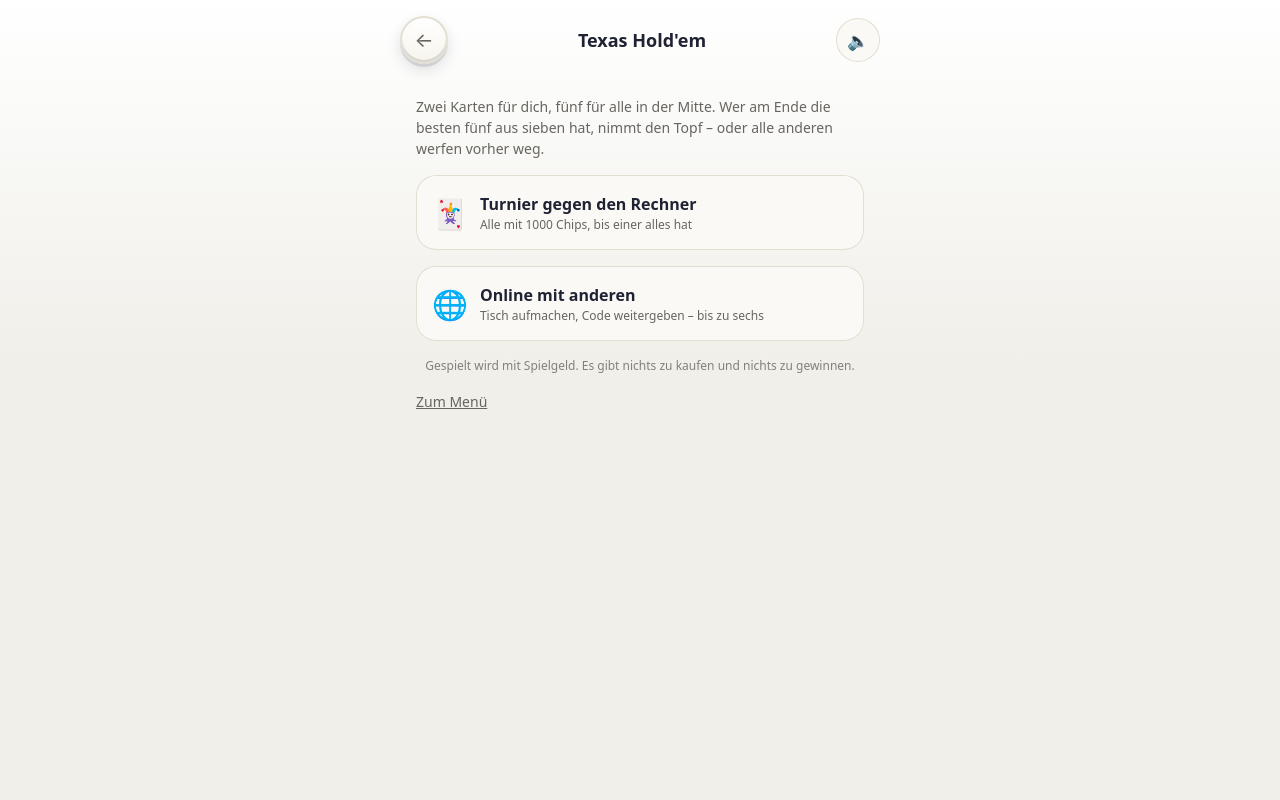
Scenario: Vom Menü an den Tisch › bietet nur an, was erlaubt ist
Click the button "Turnier gegen den Rechner" at coordinates (640, 213), box [416,175,864,250]
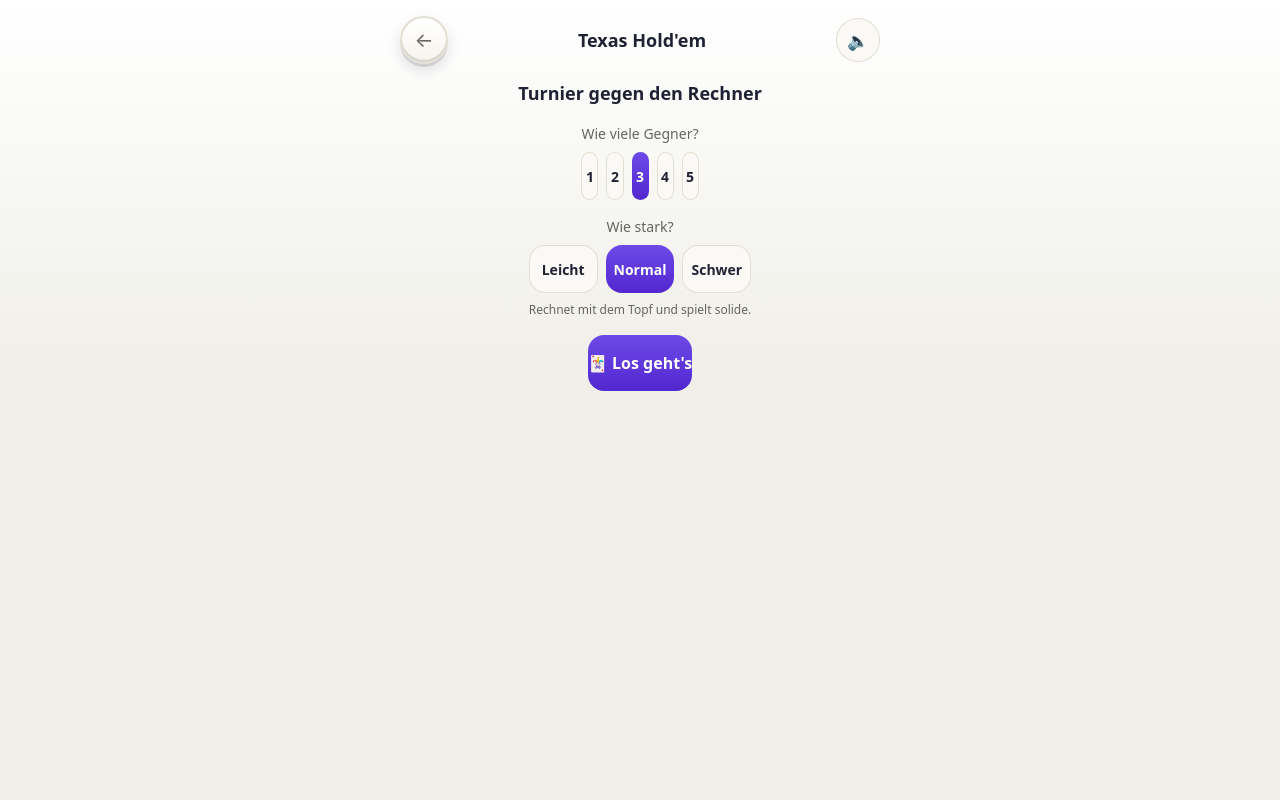
Click the button "1" at coordinates (590, 176), box [582,152,598,200]
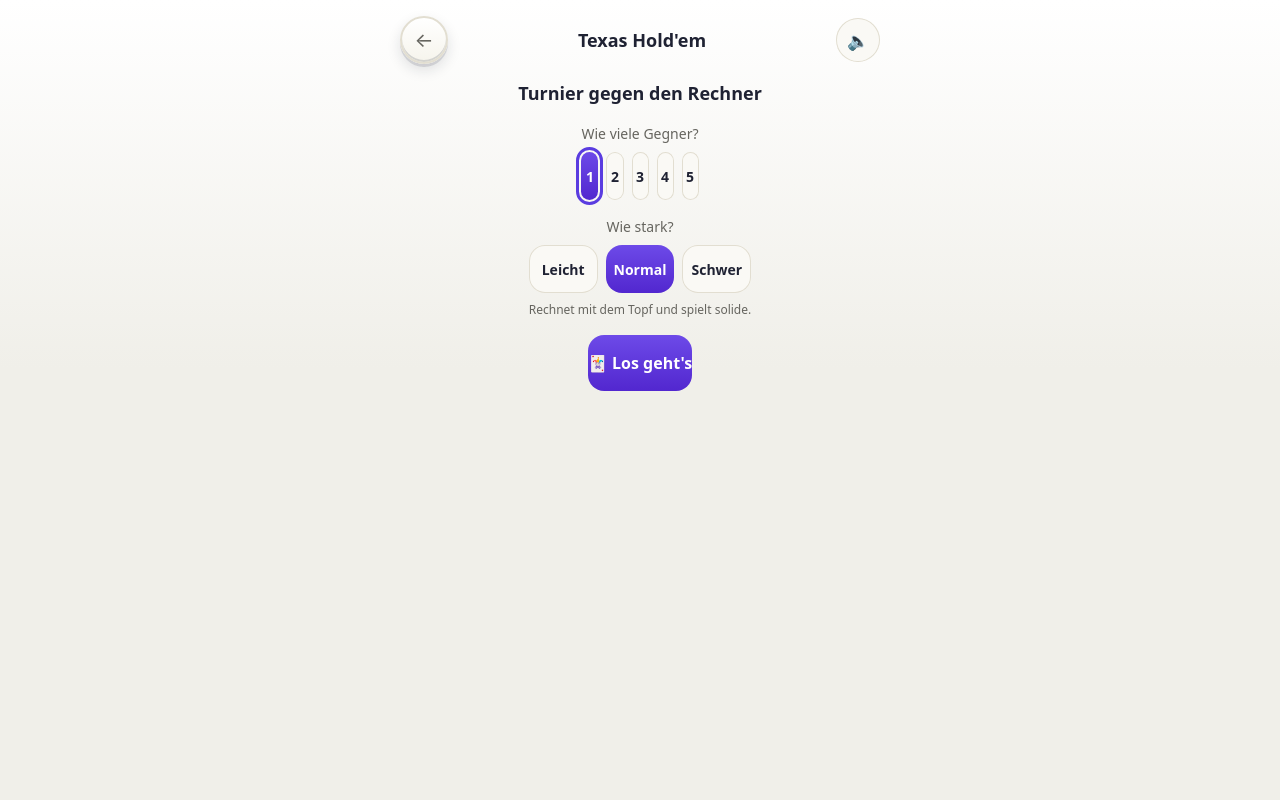
Click the button "🃏 Los geht's" at coordinates (640, 363), box [588,335,692,391]
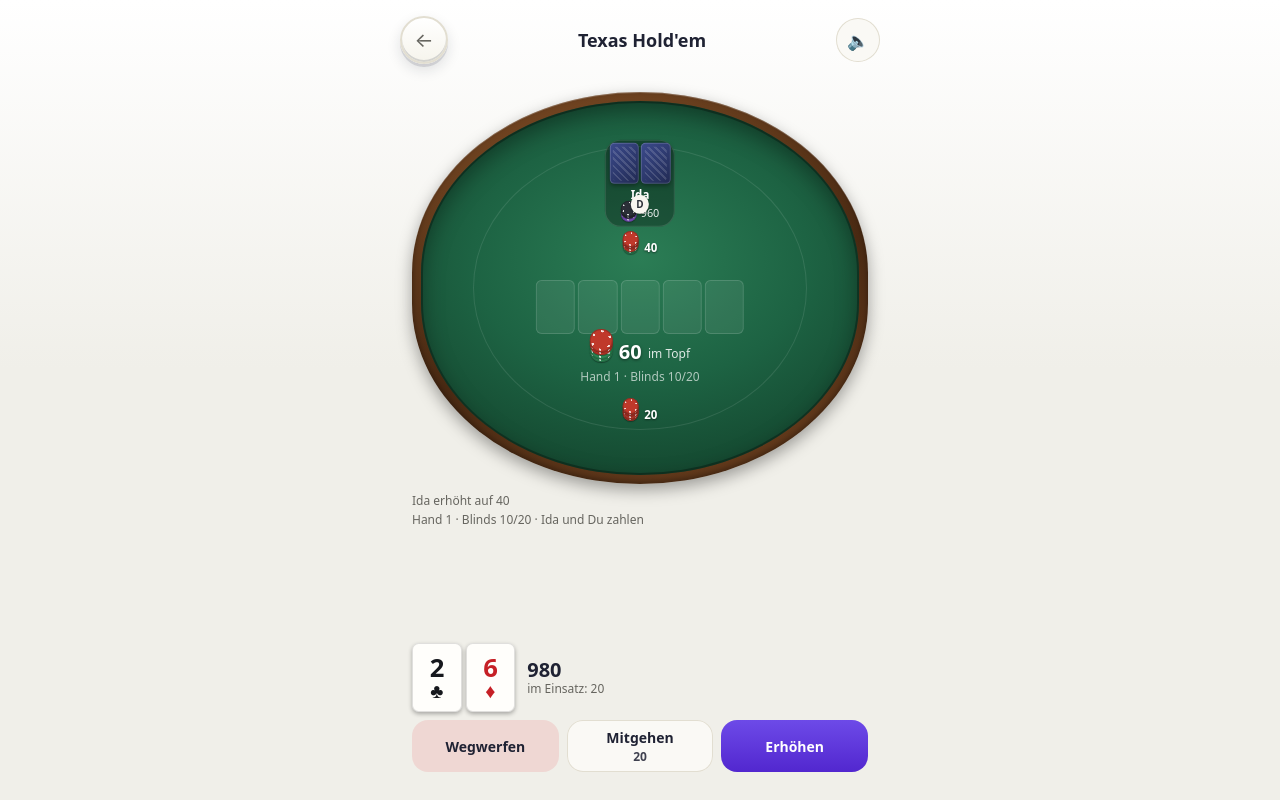
Check: the button "Wegwerfen" is enabled, box [412,720,559,772]
